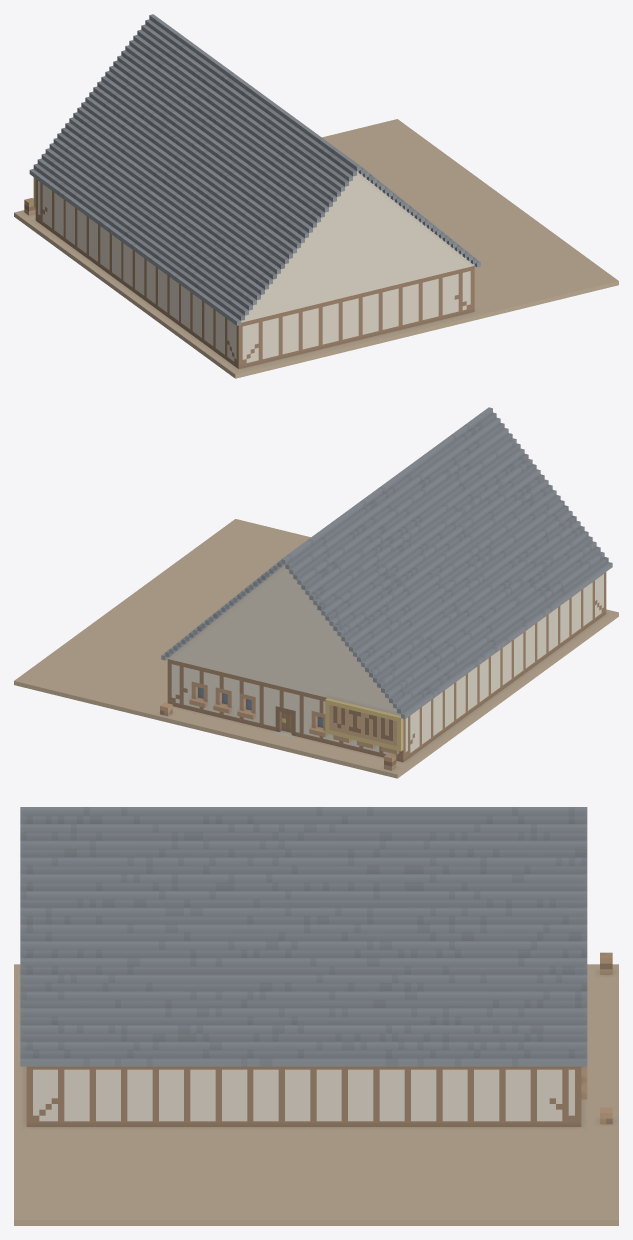
Rendered from university.glb.
The picture shows the model from 3 angles, top to bottom: view 1: azimuth 30°, elevation 25°; view 2: azimuth 150°, elevation 25°; view 3: azimuth 270°, elevation 25°; orthographic projection. The views are drawn at different scales.
Visible parts, largest first — view 1: university; view 2: university; view 3: university.
Part boxes in pixels (left/top/right/bottom): university: left=14, top=14, right=618, bottom=378; university: left=14, top=407, right=618, bottom=778; university: left=14, top=807, right=618, bottom=1225.
Bounding box in the file's own units: 12 × 5.38 × 12.
